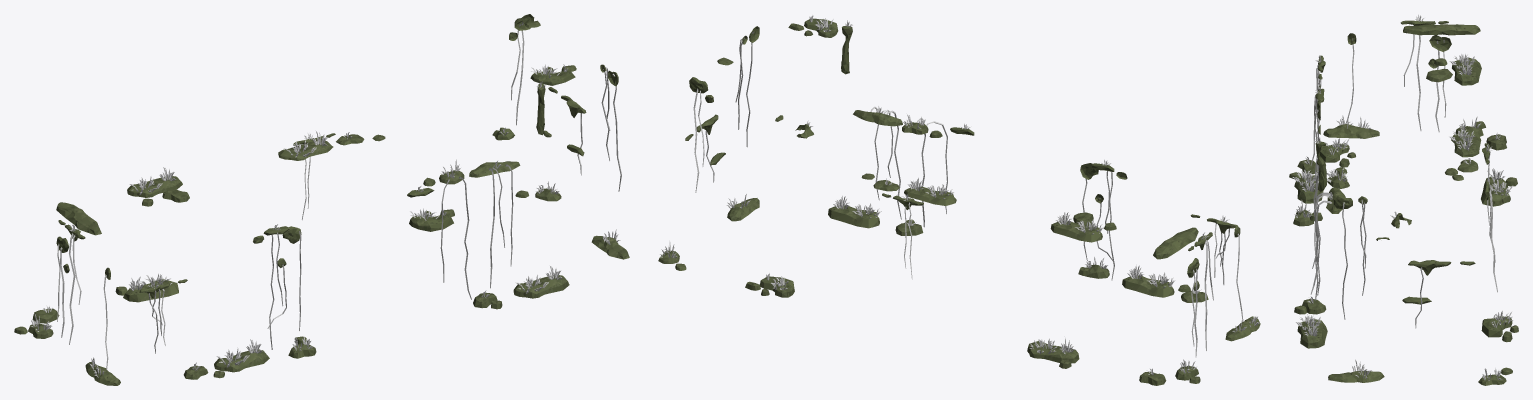
The model's file is SM_Bld_Industrial_Large_01_Overgrowth_01.obj.
3 renders of one model, left to right at view 1: azimuth 30°, elevation 25°; view 2: azimuth 150°, elevation 25°; view 3: azimuth 270°, elevation 25°, orthographic. The views are drawn at different scales.
Parts seen in each view (by area): view 1: SM_Bld_Industrial_Large_01_Overgrowth_01_0, SM_Bld_Industrial_Large_01_Overgrowth_01_1; view 2: SM_Bld_Industrial_Large_01_Overgrowth_01_0, SM_Bld_Industrial_Large_01_Overgrowth_01_1; view 3: SM_Bld_Industrial_Large_01_Overgrowth_01_0, SM_Bld_Industrial_Large_01_Overgrowth_01_1.
Boxes of the visible parts, left/top/right/bottom form: SM_Bld_Industrial_Large_01_Overgrowth_01_0: left=14, top=14, right=629, bottom=385; SM_Bld_Industrial_Large_01_Overgrowth_01_1: left=31, top=22, right=621, bottom=377; SM_Bld_Industrial_Large_01_Overgrowth_01_0: left=658, top=18, right=1260, bottom=385; SM_Bld_Industrial_Large_01_Overgrowth_01_1: left=660, top=15, right=1259, bottom=374; SM_Bld_Industrial_Large_01_Overgrowth_01_0: left=1289, top=20, right=1518, bottom=385; SM_Bld_Industrial_Large_01_Overgrowth_01_1: left=1292, top=14, right=1513, bottom=380.
Bounding box in the file's own units: 45.67 × 16.88 × 16.9.
